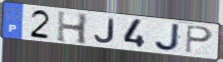2: (29, 9, 53, 41)
4: (122, 18, 150, 51)
H: (56, 9, 90, 46)
J: (153, 22, 183, 52), (93, 17, 116, 45)
P: (185, 24, 214, 54)
